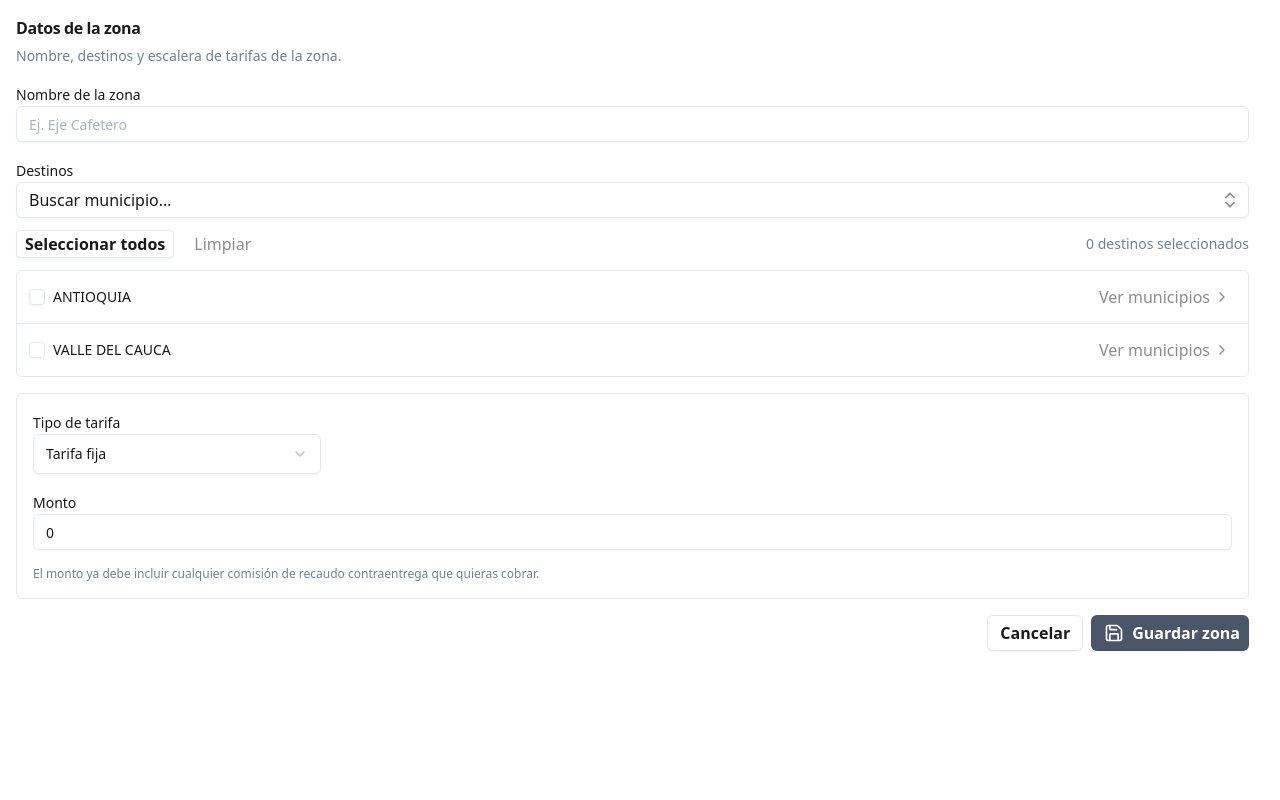
Test: ZoneForm destinations picker › requires confirmation before 'Limpiar' wipes a non-empty destinations selection, and does nothing on cancel
Click the button "Seleccionar todos". click: (95, 244)
box: top-left (16, 230), bottom-right (174, 258)
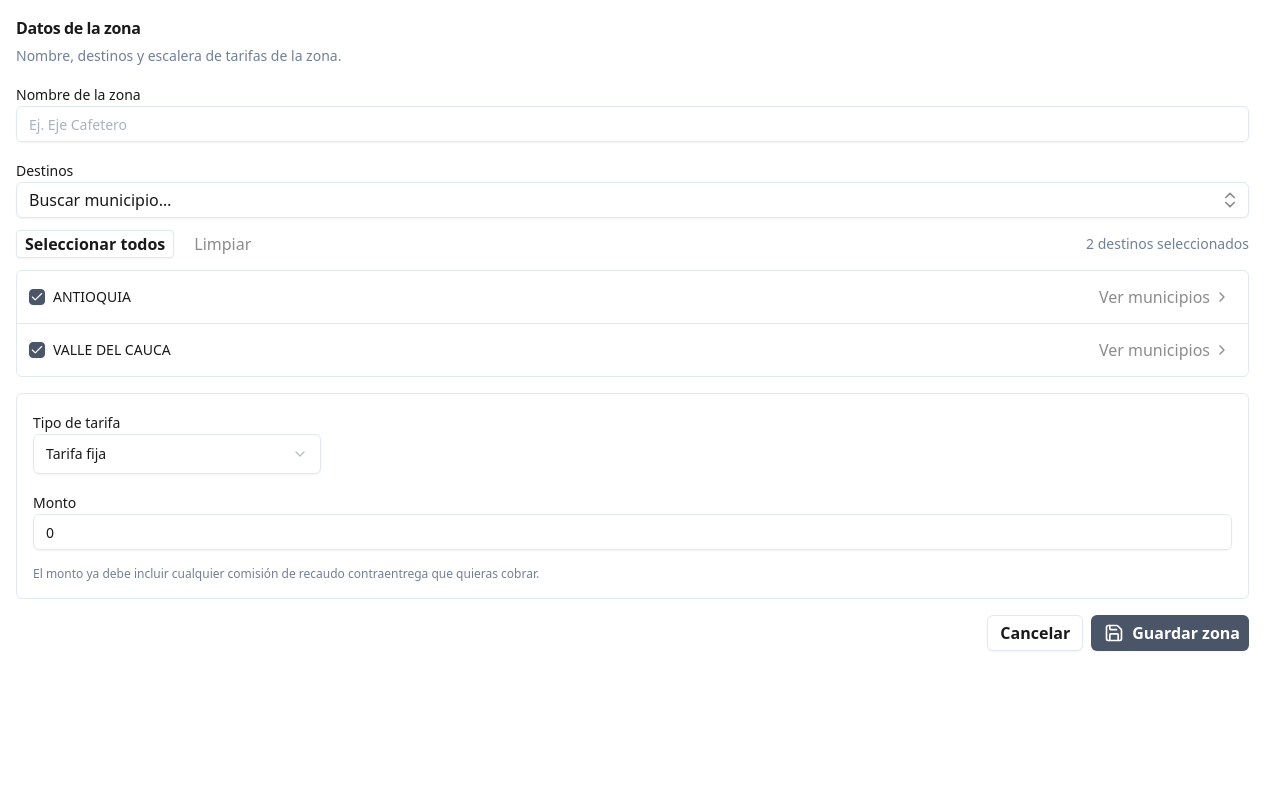
Click the button "Limpiar". click: (223, 244)
box: top-left (186, 230), bottom-right (259, 258)
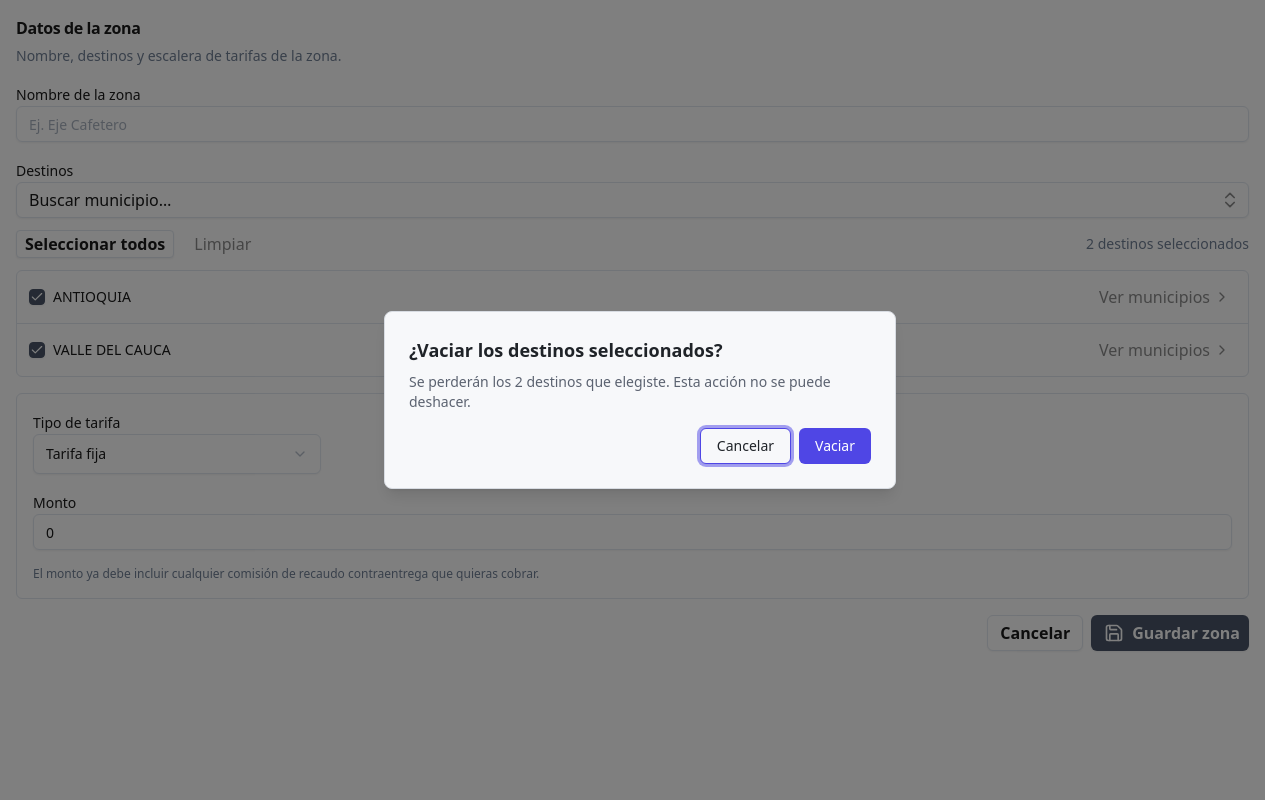
Check: the checkbox named "ANTIOQUIA" is checked, box top-left (29, 289), bottom-right (45, 305)
Check: the dialog is shown, box top-left (384, 311), bottom-right (896, 489)
Click the button "Cancelar". click: (745, 446)
box: top-left (700, 428), bottom-right (791, 464)
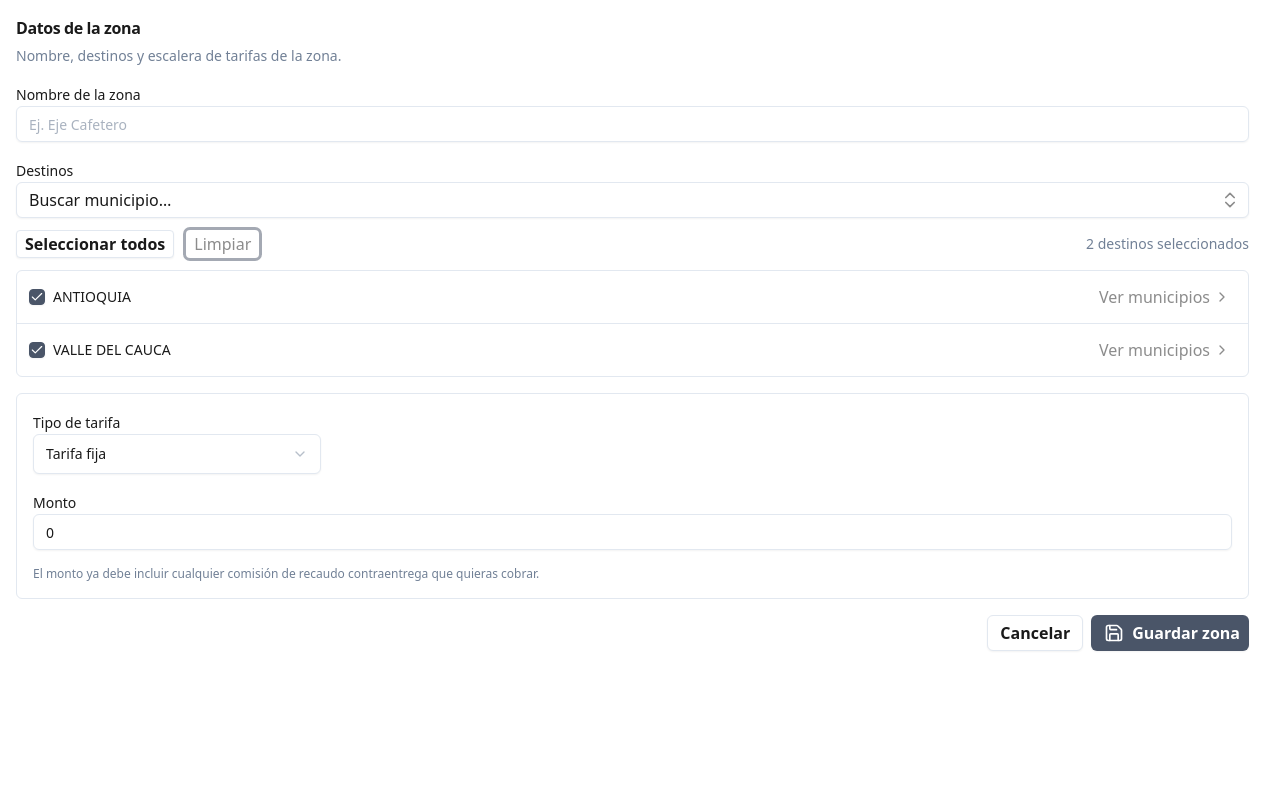
Check: the checkbox named "ANTIOQUIA" next to "ANTIOQUIA" is checked, box top-left (29, 289), bottom-right (45, 305)
Check: the dialog is gone
